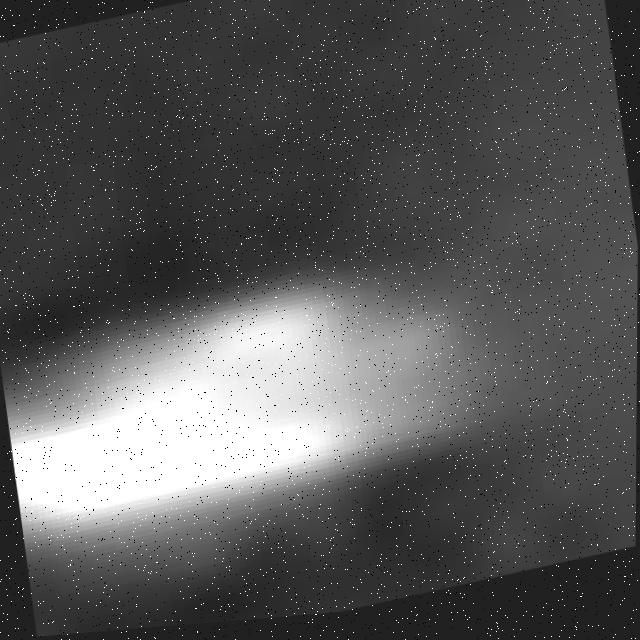person: (1, 192, 545, 590)
